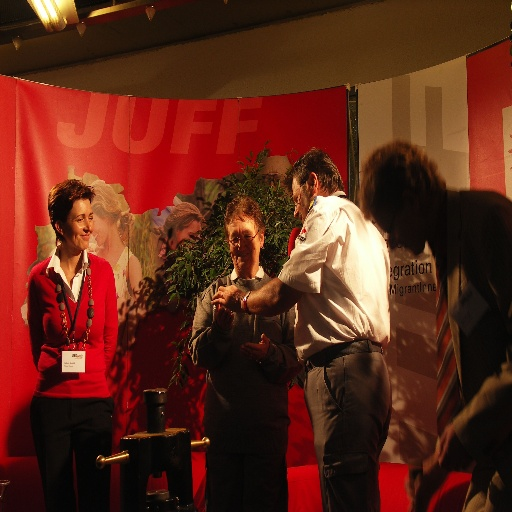hand: (200, 279, 247, 328), (437, 425, 467, 472), (237, 331, 269, 364), (213, 301, 237, 328)
